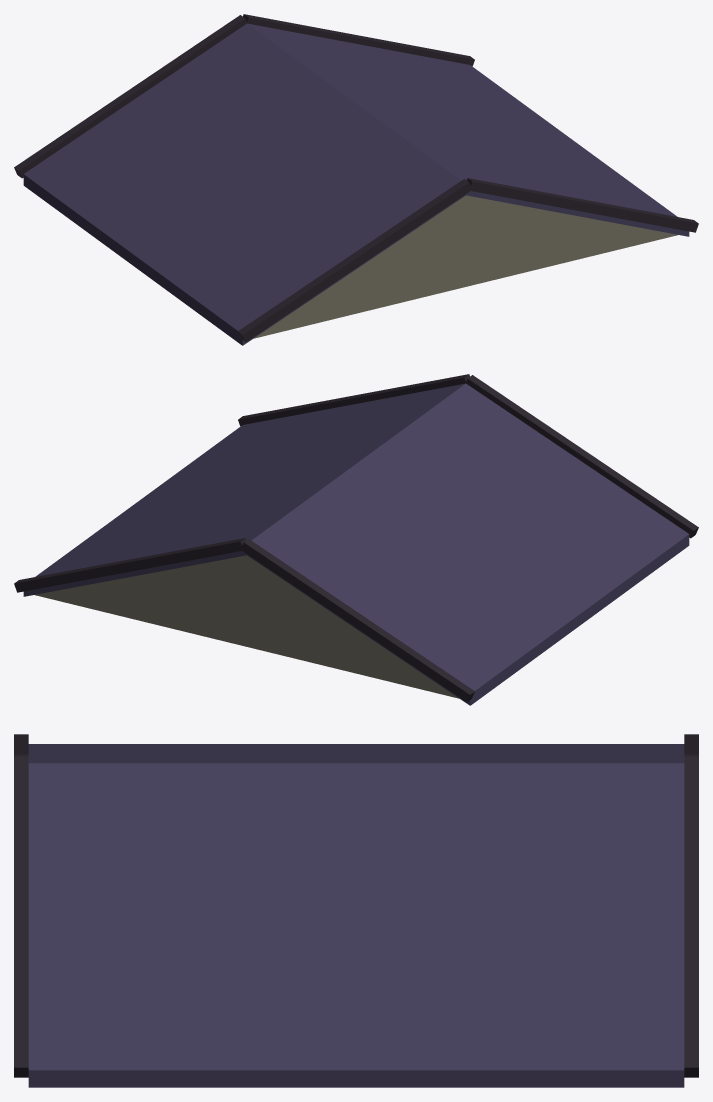
The model's file is HauntedWoods_ManorRoof_Simple.glb.
The picture shows the model from 3 angles, top to bottom: view 1: azimuth 30°, elevation 25°; view 2: azimuth 150°, elevation 25°; view 3: azimuth 270°, elevation 25°; orthographic projection. The views are drawn at different scales.
Visible parts, largest first — view 1: HauntedWoods_ManorRoof_Simple; view 2: HauntedWoods_ManorRoof_Simple; view 3: HauntedWoods_ManorRoof_Simple.
Part boxes in pixels (x1,y1,x2,y2): HauntedWoods_ManorRoof_Simple: (14, 14, 698, 345); HauntedWoods_ManorRoof_Simple: (14, 374, 698, 705); HauntedWoods_ManorRoof_Simple: (14, 734, 698, 1087).
Size of the model in its own units: 7.45 by 1.76 by 6.48.
